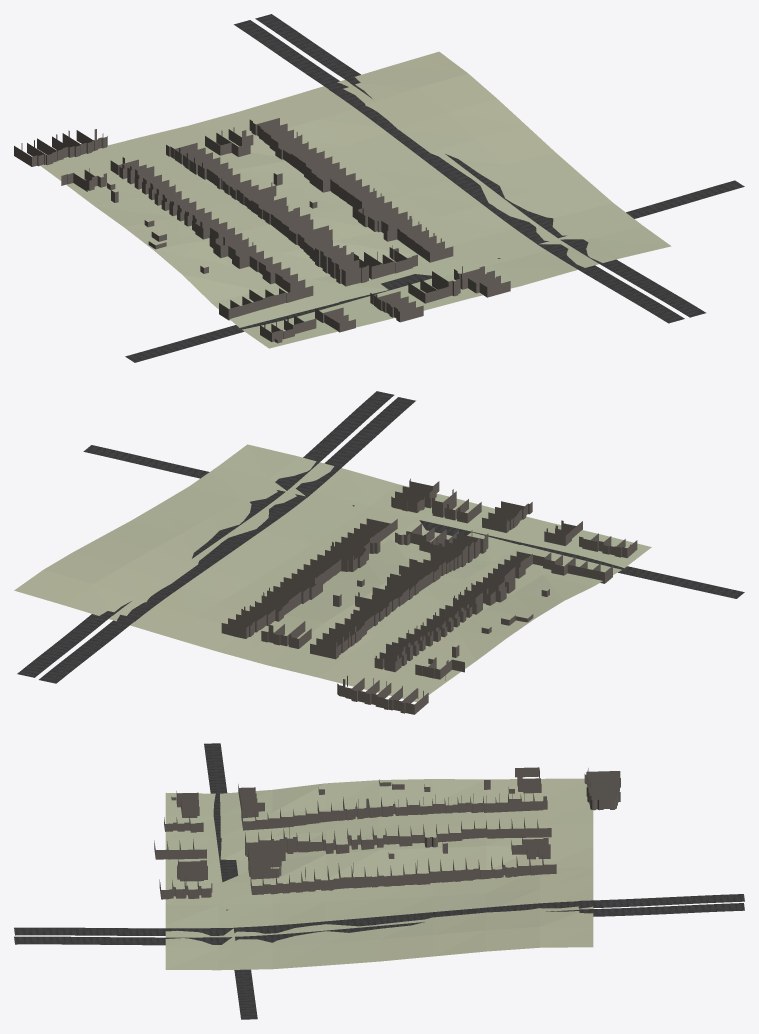
File: tile_6_-14_lod1.gltf
3 renders of one model, top to bottom at view 1: azimuth 30°, elevation 25°; view 2: azimuth 150°, elevation 25°; view 3: azimuth 270°, elevation 25°, orthographic. The views are drawn at different scales.
Parts seen in each view (by area): view 1: Terrain_col, Buildings_col, Roads; view 2: Terrain_col, Buildings_col, Roads; view 3: Terrain_col, Buildings_col, Roads.
Boxes of the visible parts, x1,y1,x2,y2 form: Terrain_col: (40,51,671,348); Buildings_col: (14,118,510,343); Roads: (125,14,744,362); Terrain_col: (14,444,651,702); Buildings_col: (221,478,637,714); Roads: (17,391,744,683); Terrain_col: (165,778,593,970); Buildings_col: (154,767,620,899); Roads: (14,743,744,1019).
Bounding box in the file's own units: 401 × 18.59 × 437.
Materials: 3 (1 with a texture image).
